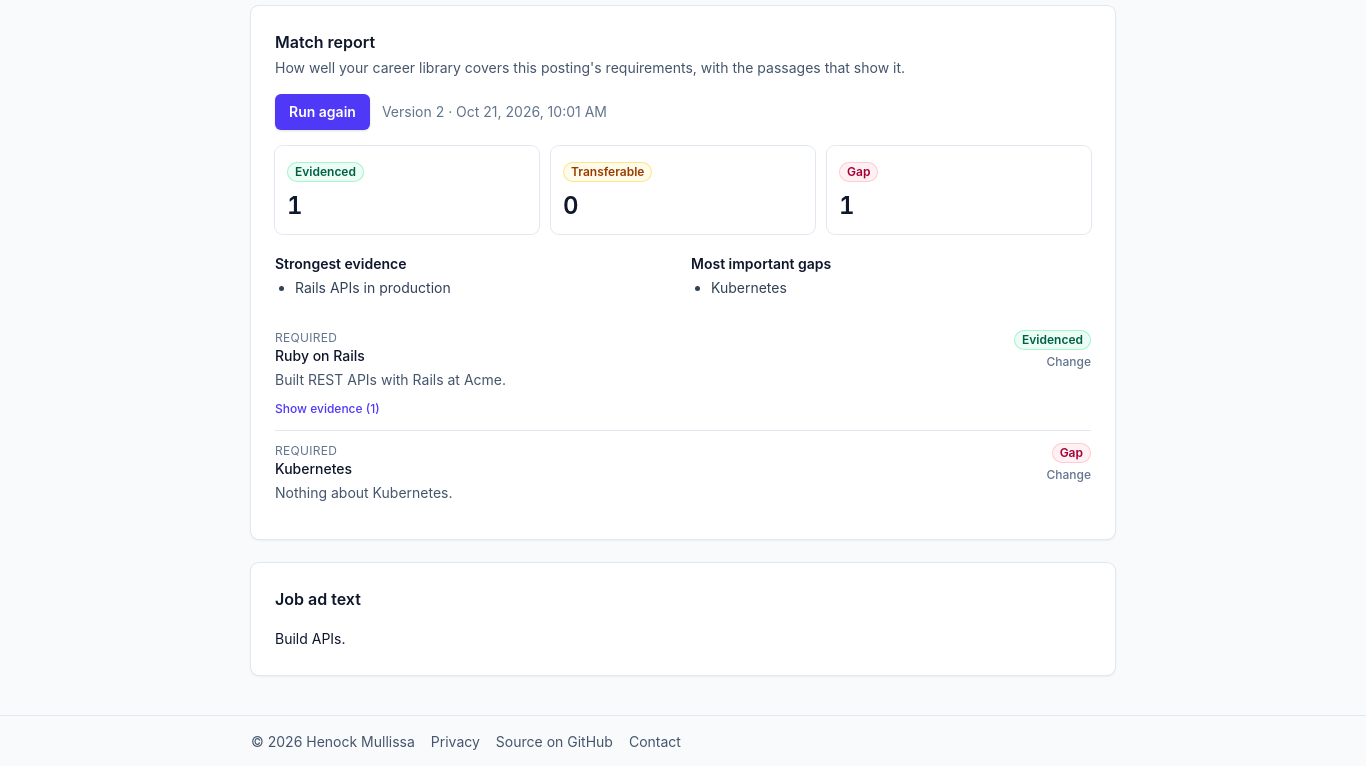
Match report › lets the user override a verdict and add a note
The width and height of the screenshot is (1366, 766).
(page scrolled)
Click the button with aria-label "Change verdict for Kubernetes": (1069, 475) top-left (1046, 467), bottom-right (1091, 483)
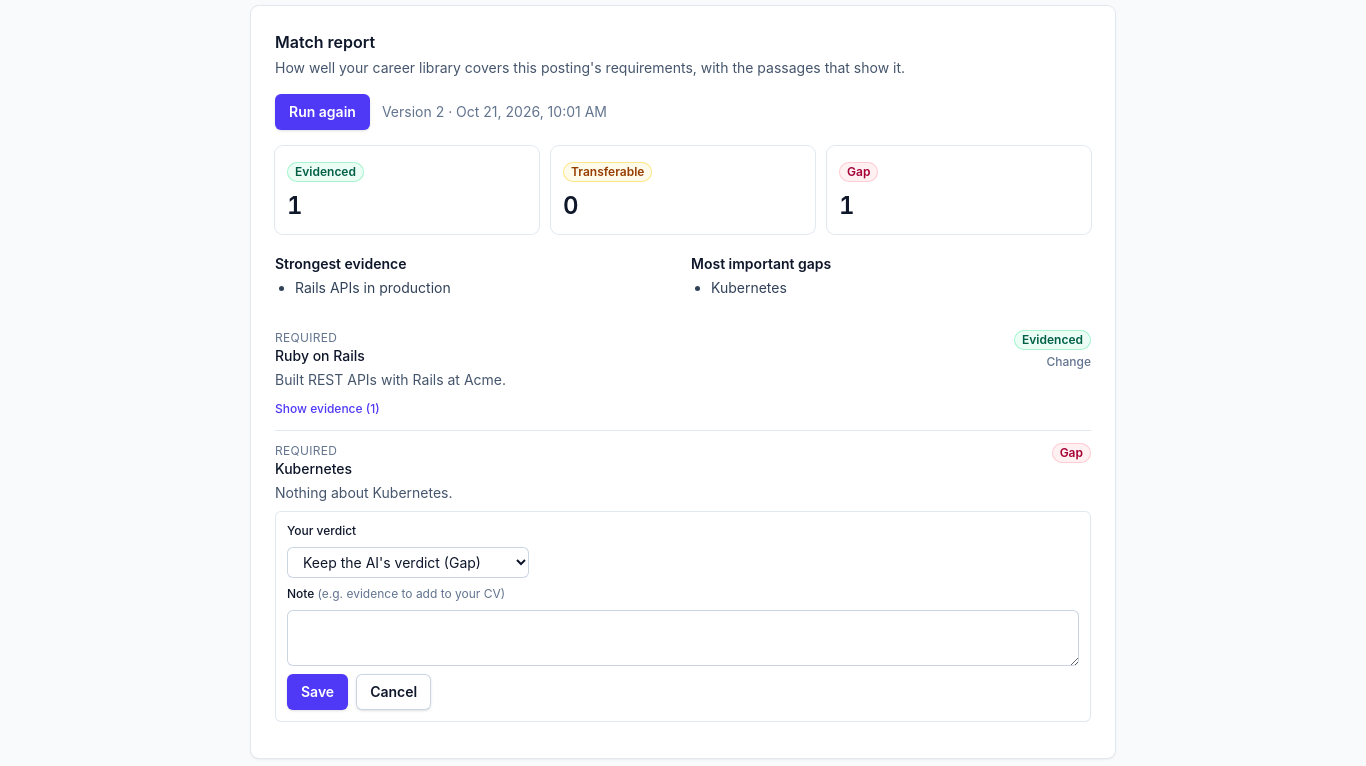
Select "Transferable" in the dropdown labelled "Your verdict": (408, 562) top-left (287, 547), bottom-right (529, 578)
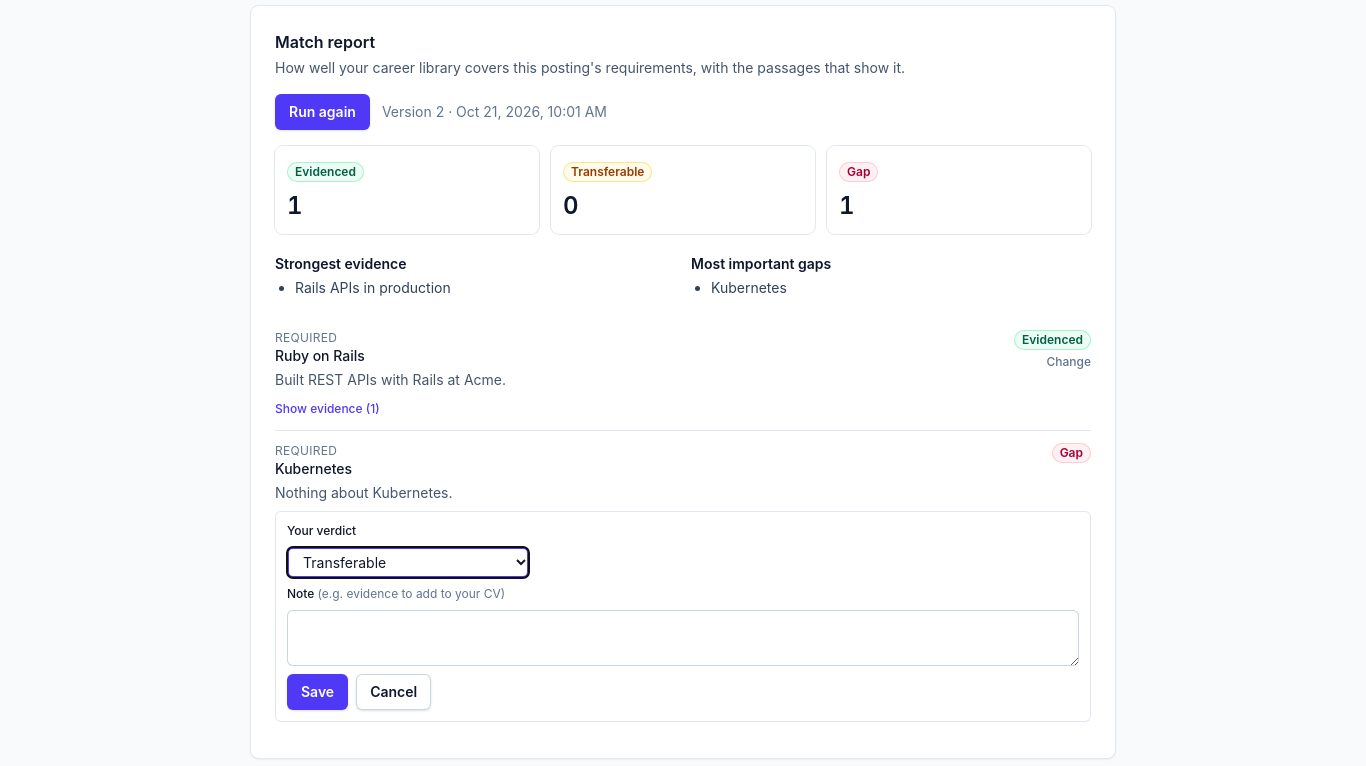
In the text box labelled "Note (e.g. evidence to add to your CV)": (683, 638) top-left (287, 610), bottom-right (1079, 666), type "Ran k3s at home."
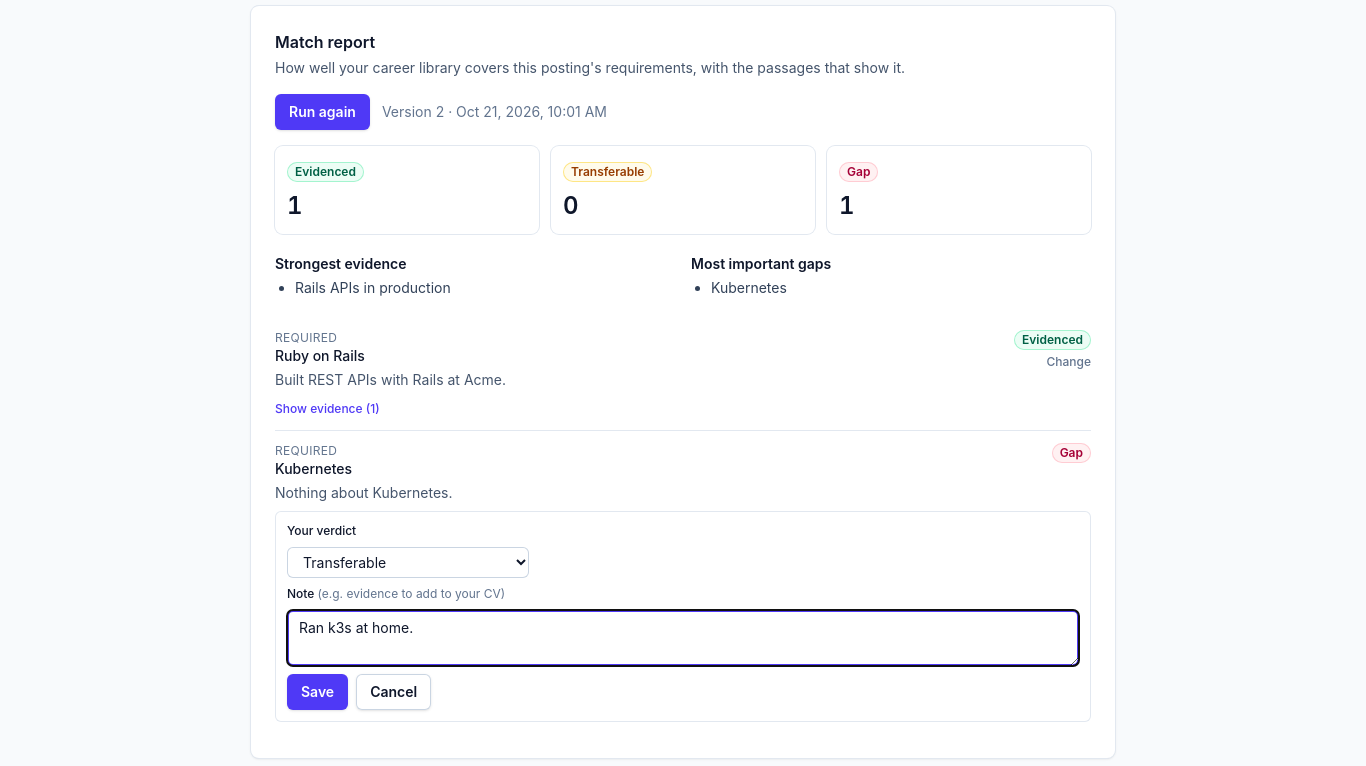
Click the button "Save": (318, 692) top-left (287, 674), bottom-right (348, 710)
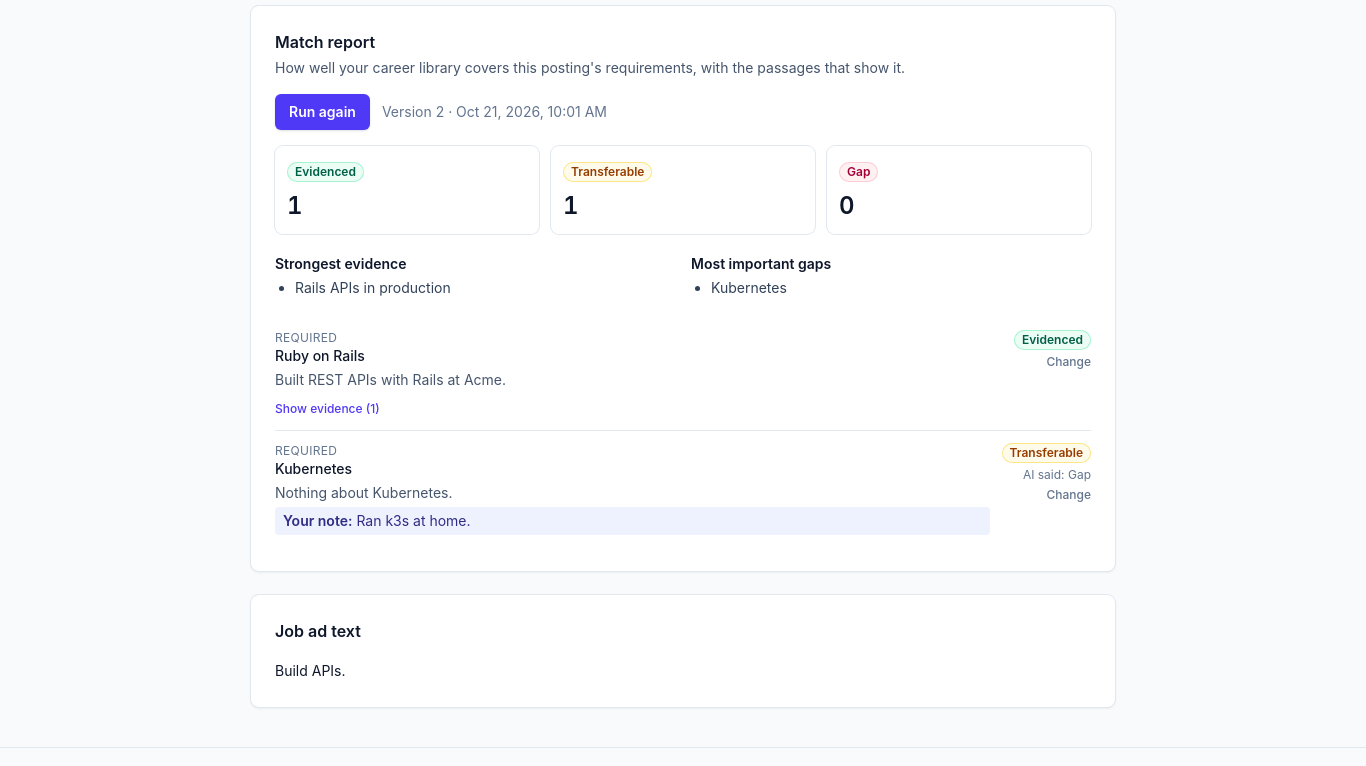
Now the text "AI said: Gap" is shown, box top-left (1023, 467), bottom-right (1091, 483)
Now the text "Ran k3s at home." is shown, box top-left (356, 512), bottom-right (471, 529)
Now the list named "Summary" reads "Evidenced 1 Transferable 1 Gap 0", box top-left (275, 146), bottom-right (1091, 234)
